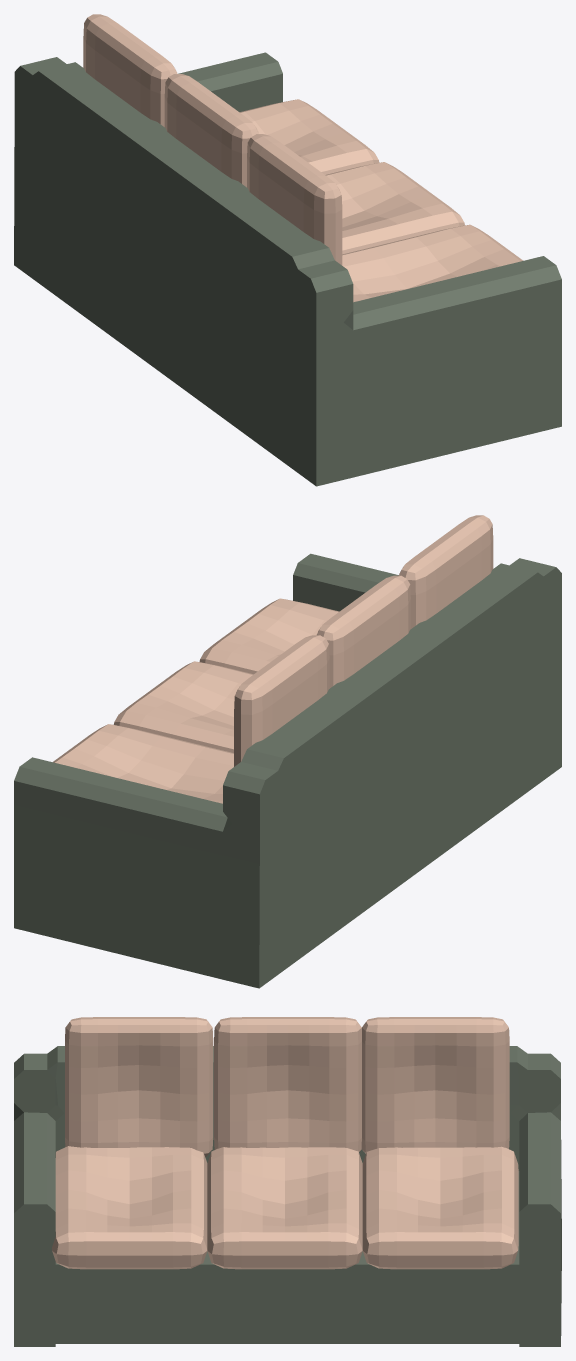
File: sofa.fbx
The picture shows the model from 3 angles, top to bottom: view 1: azimuth 30°, elevation 25°; view 2: azimuth 150°, elevation 25°; view 3: azimuth 270°, elevation 25°; orthographic projection. The views are drawn at different scales.
Visible parts, largest first — view 1: Sofa; view 2: Sofa; view 3: Sofa.
Boxes of the visible parts, x1,y1,x2,y2 form: Sofa: [14, 14, 561, 486]; Sofa: [14, 515, 561, 988]; Sofa: [14, 1017, 561, 1346].
Bounding box in the file's own units: 167 × 333 × 161.
